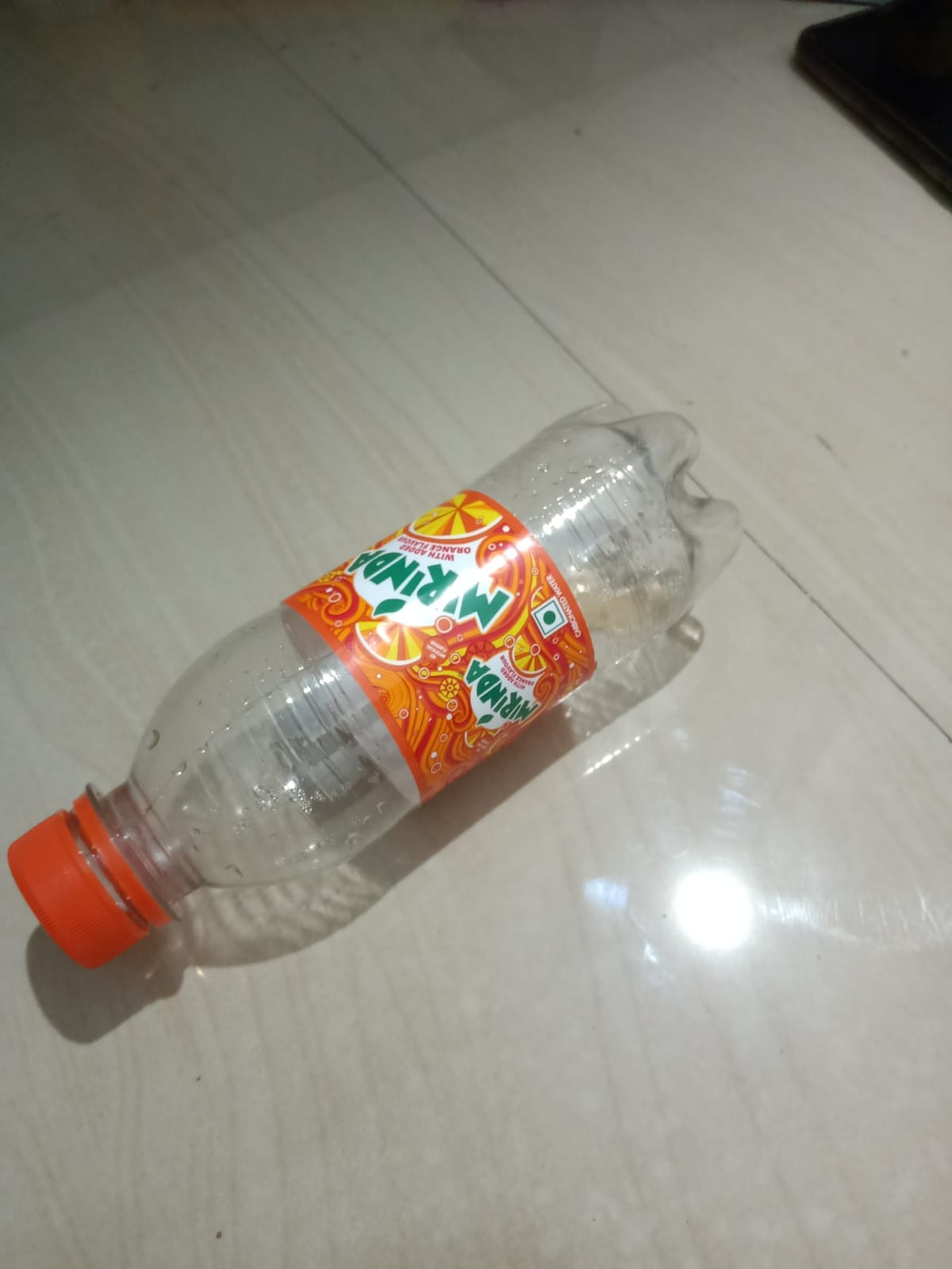plastic: (32, 379, 729, 937)
